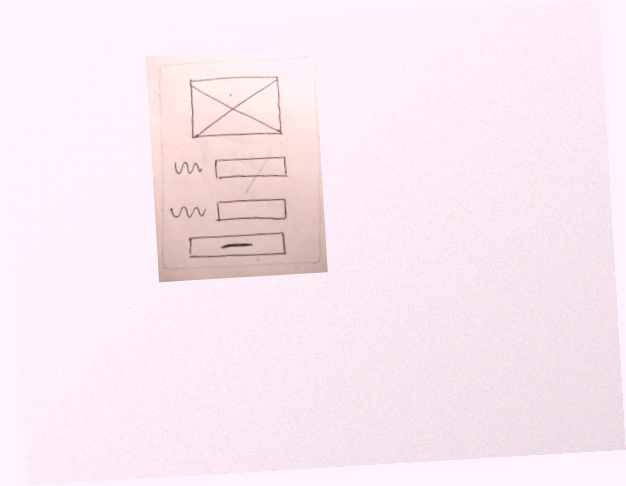button: (185, 227, 289, 264)
image: (185, 69, 289, 147)
text: (170, 153, 207, 185), (166, 201, 209, 226)
text_input: (212, 151, 292, 184), (212, 195, 291, 225)
